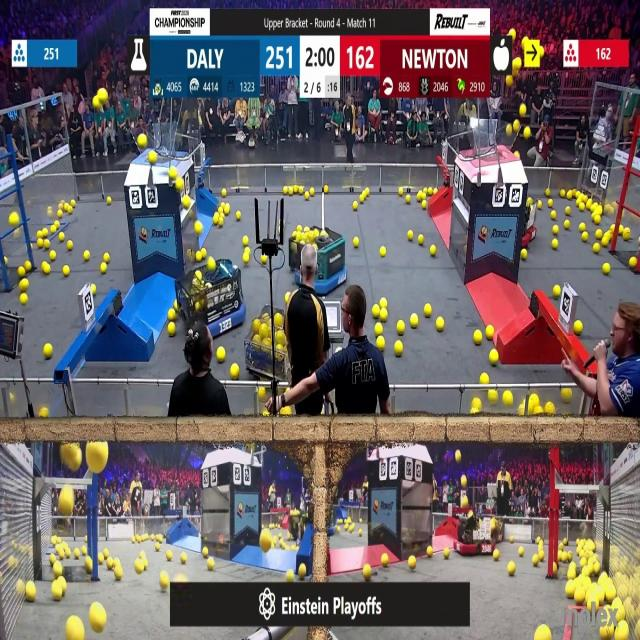ball_airborne: (87, 438, 107, 471), (60, 486, 75, 515), (67, 447, 82, 472), (99, 90, 108, 103), (514, 59, 523, 71), (139, 135, 147, 148), (10, 212, 18, 225), (524, 128, 532, 140), (148, 151, 156, 163), (460, 496, 468, 508), (182, 197, 190, 209), (455, 451, 462, 464), (460, 477, 468, 488), (520, 105, 527, 117), (176, 178, 183, 190), (518, 102, 524, 116), (514, 119, 520, 131), (506, 125, 512, 137), (506, 75, 512, 86), (170, 168, 176, 178), (524, 38, 529, 48), (511, 30, 517, 38), (517, 151, 521, 158)
ball_ground: (90, 605, 107, 632), (26, 583, 36, 602), (575, 588, 585, 604), (54, 562, 64, 577), (231, 363, 240, 379), (297, 564, 306, 580), (490, 350, 499, 366), (162, 571, 170, 589), (565, 583, 574, 599), (562, 388, 572, 402), (606, 587, 616, 600), (217, 347, 225, 362), (363, 564, 371, 579), (473, 332, 481, 346), (409, 556, 417, 570), (486, 325, 494, 339), (394, 342, 402, 356), (554, 284, 562, 298), (489, 390, 498, 402), (488, 329, 495, 344), (286, 569, 294, 582), (381, 554, 389, 567), (114, 567, 122, 580), (54, 588, 62, 601), (378, 337, 385, 351), (438, 317, 445, 331), (376, 322, 384, 334), (42, 263, 50, 275), (20, 279, 28, 291), (567, 567, 575, 579), (412, 314, 419, 327), (169, 322, 176, 335), (424, 305, 431, 318), (472, 397, 480, 408), (20, 294, 28, 305), (169, 310, 176, 322), (63, 266, 70, 278), (396, 320, 403, 332), (381, 310, 388, 322), (194, 220, 201, 232), (40, 409, 48, 419), (259, 387, 265, 400), (482, 374, 489, 385), (372, 304, 379, 315), (208, 558, 214, 570), (522, 248, 528, 260), (244, 252, 250, 264), (103, 252, 110, 262), (18, 267, 25, 277), (561, 554, 568, 564), (107, 559, 114, 569), (631, 259, 638, 269), (429, 245, 435, 256), (604, 265, 610, 276), (624, 230, 630, 241), (427, 545, 433, 556), (25, 261, 31, 272), (83, 250, 89, 261), (493, 552, 500, 561), (564, 219, 571, 228), (553, 224, 559, 234), (353, 238, 359, 248), (444, 548, 450, 558), (418, 236, 424, 246), (204, 548, 210, 558), (582, 234, 589, 242), (596, 231, 602, 240), (243, 237, 249, 246), (553, 240, 558, 250), (409, 232, 414, 242), (49, 250, 54, 260), (223, 205, 228, 215), (167, 553, 173, 561), (546, 200, 552, 208), (594, 244, 600, 252), (417, 192, 423, 200), (519, 546, 525, 554), (68, 241, 73, 250), (353, 202, 358, 211), (237, 211, 242, 220), (195, 251, 200, 260), (579, 222, 584, 230), (323, 185, 328, 193), (381, 248, 386, 256), (59, 232, 64, 240), (374, 328, 380, 334), (264, 412, 270, 418), (537, 202, 541, 210), (155, 542, 159, 550), (360, 198, 365, 204), (57, 211, 62, 217), (140, 552, 145, 558), (408, 198, 412, 204), (360, 532, 362, 538), (215, 216, 217, 221)
robot_blue: (173, 260, 248, 339), (247, 305, 310, 381), (290, 229, 348, 298)
robot_red: (457, 514, 507, 556), (516, 208, 536, 246)
